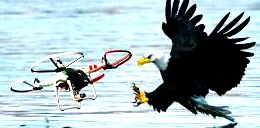Bird: (130, 0, 256, 124)
Drone: (8, 47, 132, 112)
